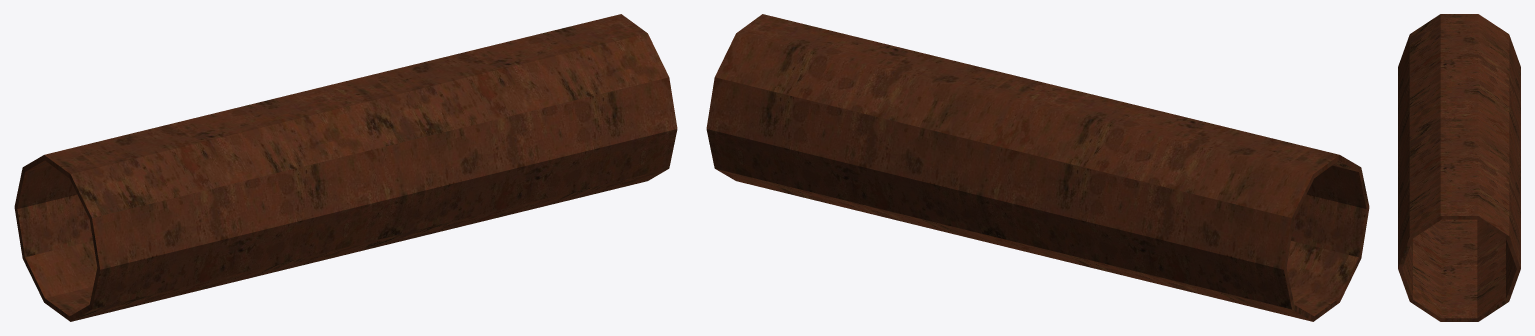
The model's file is pipe_4.glb.
The picture shows the model from 3 angles, left to right: view 1: azimuth 30°, elevation 25°; view 2: azimuth 150°, elevation 25°; view 3: azimuth 270°, elevation 25°; orthographic projection. The views are drawn at different scales.
Visible parts, largest first — view 1: pipe_4; view 2: pipe_4; view 3: pipe_4.
Boxes of the visible parts, left/top/right/bottom form: pipe_4: left=14, top=14, right=677, bottom=321; pipe_4: left=706, top=14, right=1369, bottom=321; pipe_4: left=1398, top=14, right=1520, bottom=321.
Size of the model in its own units: 0.35 by 0.0856 by 0.09.
1 material, 1 textured.
